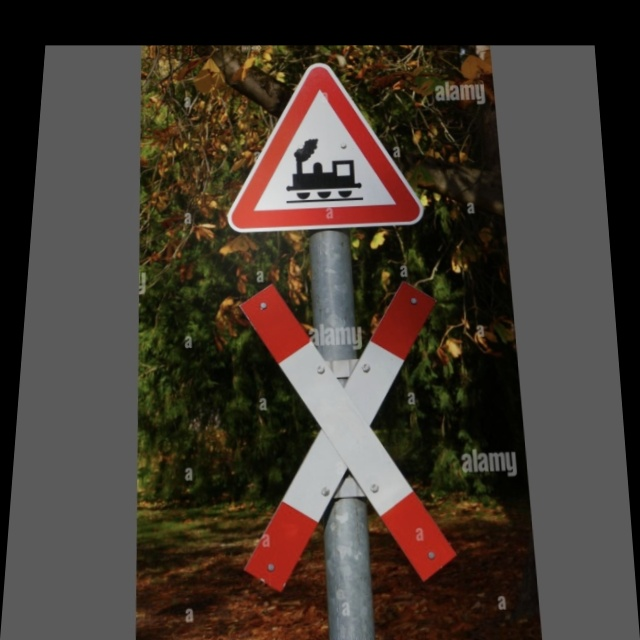Unguarded_Level_Crossing: (238, 79, 423, 232)
